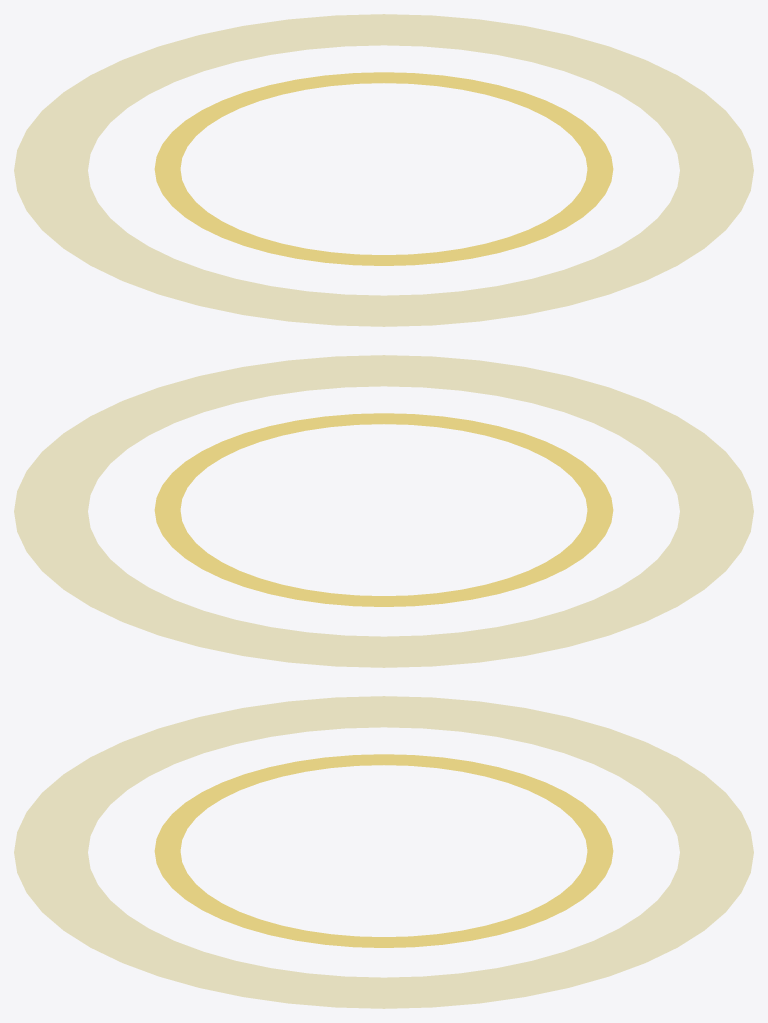
File: crusade_impact.glb
3 renders of one model, top to bottom at view 1: azimuth 30°, elevation 25°; view 2: azimuth 150°, elevation 25°; view 3: azimuth 270°, elevation 25°, orthographic.
Parts seen in each view (by area): view 1: crusade_impact; view 2: crusade_impact; view 3: crusade_impact.
Boxes of the visible parts, x1=… form: crusade_impact: x1=14, y1=14, x2=753, y2=326; crusade_impact: x1=14, y1=355, x2=753, y2=667; crusade_impact: x1=14, y1=696, x2=753, y2=1008.
Size of the model in its own units: 2 by 0.004 by 2.
Materials: 1 (1 with a texture image).
